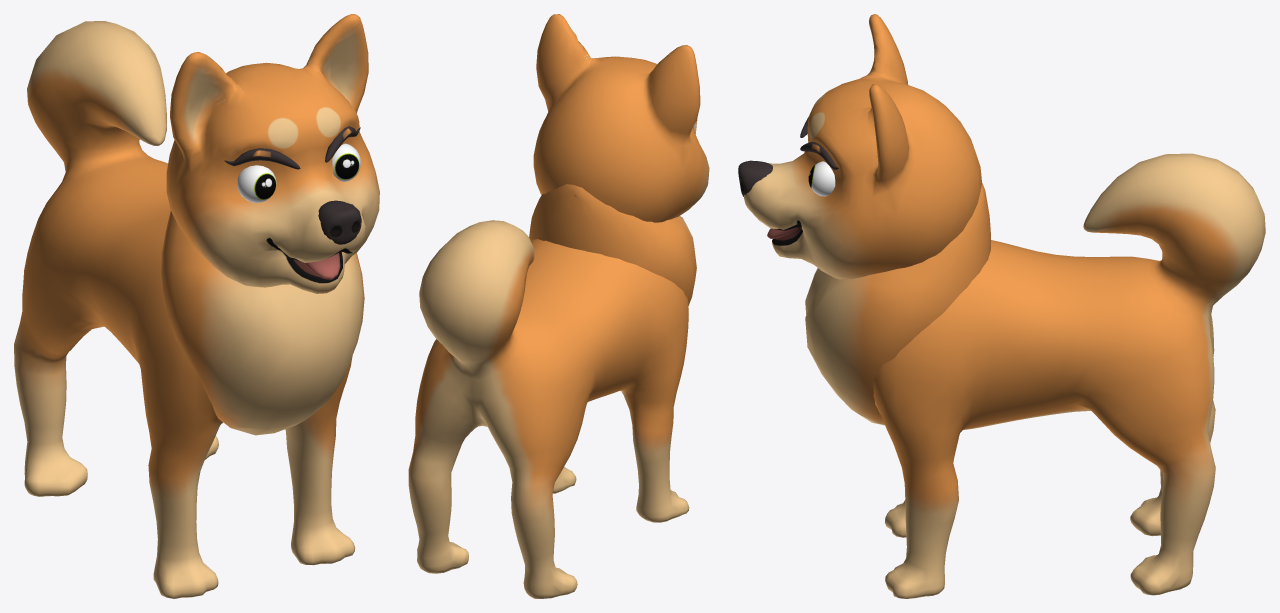
The model's file is perrito2.0.fbx.
The picture shows the model from 3 angles, left to right: view 1: azimuth 30°, elevation 25°; view 2: azimuth 150°, elevation 25°; view 3: azimuth 270°, elevation 25°; orthographic projection. The views are drawn at different scales.
Visible parts, largest first — view 1: Dog_geo_Dog_eyes_mat_0.004, Dog_geo_Dog_eyes_mat_0.003; view 2: Dog_geo_Dog_eyes_mat_0.004; view 3: Dog_geo_Dog_eyes_mat_0.004, Dog_geo_Dog_eyes_mat_0.003.
Part boxes in pixels (<box>): Dog_geo_Dog_eyes_mat_0.004: <box>14,14,379,598</box>; Dog_geo_Dog_eyes_mat_0.003: <box>237,143,360,202</box>; Dog_geo_Dog_eyes_mat_0.004: <box>408,14,709,598</box>; Dog_geo_Dog_eyes_mat_0.004: <box>738,14,1265,598</box>; Dog_geo_Dog_eyes_mat_0.003: <box>808,161,835,196</box>.
Size of the model in its own units: 277 by 746 by 702.
2 materials, 2 textured.
